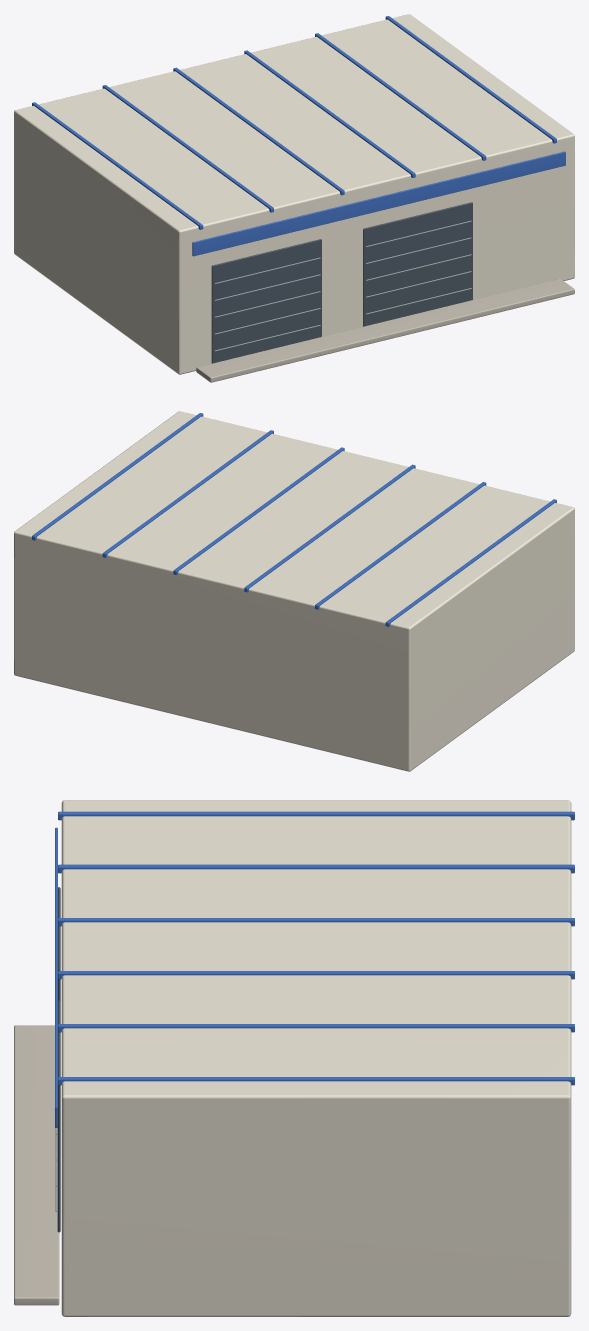
File: HL_Building_Warehouse.fbx
The picture shows the model from 3 angles, top to bottom: view 1: azimuth 30°, elevation 25°; view 2: azimuth 150°, elevation 25°; view 3: azimuth 270°, elevation 25°; orthographic projection. The views are drawn at different scales.
Parts seen in each view (by area): view 1: Warehouse | ribbed shell, Warehouse | rolling service door, Warehouse | rolling service door.001, Warehouse | loading ramp, Warehouse | service strip, Warehouse | cobalt roof rib, Warehouse | cobalt roof rib.002, Warehouse | cobalt roof rib.003, Warehouse | cobalt roof rib.004, Warehouse | cobalt roof rib.005, Warehouse | cobalt roof rib.001; view 2: Warehouse | ribbed shell, Warehouse | cobalt roof rib.002, Warehouse | cobalt roof rib, Warehouse | cobalt roof rib.003, Warehouse | cobalt roof rib.005, Warehouse | cobalt roof rib.004, Warehouse | cobalt roof rib.001; view 3: Warehouse | ribbed shell, Warehouse | loading ramp, Warehouse | cobalt roof rib.001, Warehouse | cobalt roof rib, Warehouse | cobalt roof rib.002, Warehouse | cobalt roof rib.003, Warehouse | cobalt roof rib.004, Warehouse | cobalt roof rib.005, Warehouse | service strip, Warehouse | rolling service door.001.
Boxes of the visible parts, x1=… form: Warehouse | ribbed shell: x1=14, y1=14, x2=574, y2=374; Warehouse | rolling service door: x1=211, y1=239, x2=321, y2=363; Warehouse | rolling service door.001: x1=363, y1=202, x2=472, y2=326; Warehouse | loading ramp: x1=196, y1=278, x2=574, y2=382; Warehouse | service strip: x1=192, y1=151, x2=565, y2=256; Warehouse | cobalt roof rib: x1=32, y1=102, x2=203, y2=229; Warehouse | cobalt roof rib.002: x1=173, y1=67, x2=344, y2=195; Warehouse | cobalt roof rib.003: x1=244, y1=50, x2=415, y2=177; Warehouse | cobalt roof rib.004: x1=315, y1=33, x2=486, y2=160; Warehouse | cobalt roof rib.005: x1=385, y1=16, x2=556, y2=143; Warehouse | cobalt roof rib.001: x1=102, y1=85, x2=273, y2=212; Warehouse | ribbed shell: x1=14, y1=411, x2=574, y2=771; Warehouse | cobalt roof rib.002: x1=244, y1=464, x2=415, y2=592; Warehouse | cobalt roof rib: x1=385, y1=499, x2=556, y2=626; Warehouse | cobalt roof rib.003: x1=173, y1=447, x2=344, y2=574; Warehouse | cobalt roof rib.005: x1=32, y1=413, x2=203, y2=540; Warehouse | cobalt roof rib.004: x1=102, y1=430, x2=273, y2=557; Warehouse | cobalt roof rib.001: x1=315, y1=482, x2=486, y2=609; Warehouse | ribbed shell: x1=61, y1=800, x2=571, y2=1316; Warehouse | loading ramp: x1=14, y1=1025, x2=59, y2=1305; Warehouse | cobalt roof rib.001: x1=58, y1=864, x2=574, y2=873; Warehouse | cobalt roof rib: x1=58, y1=811, x2=574, y2=820; Warehouse | cobalt roof rib.002: x1=58, y1=918, x2=574, y2=926; Warehouse | cobalt roof rib.003: x1=58, y1=971, x2=574, y2=979; Warehouse | cobalt roof rib.004: x1=58, y1=1024, x2=574, y2=1032; Warehouse | cobalt roof rib.005: x1=58, y1=1077, x2=574, y2=1085; Warehouse | service strip: x1=55, y1=827, x2=57, y2=1127; Warehouse | rolling service door.001: x1=57, y1=1000, x2=60, y2=1232.
Bounding box in the file's own units: 1850 × 651 × 1475.
